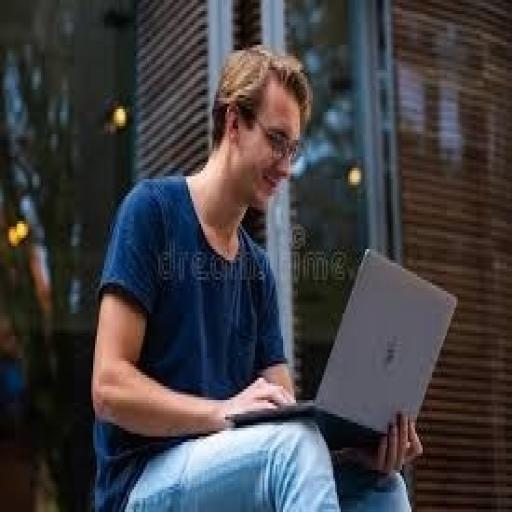using_laptop: (223, 244, 458, 450)
